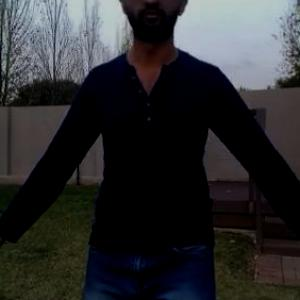land: (10, 0, 299, 299)
